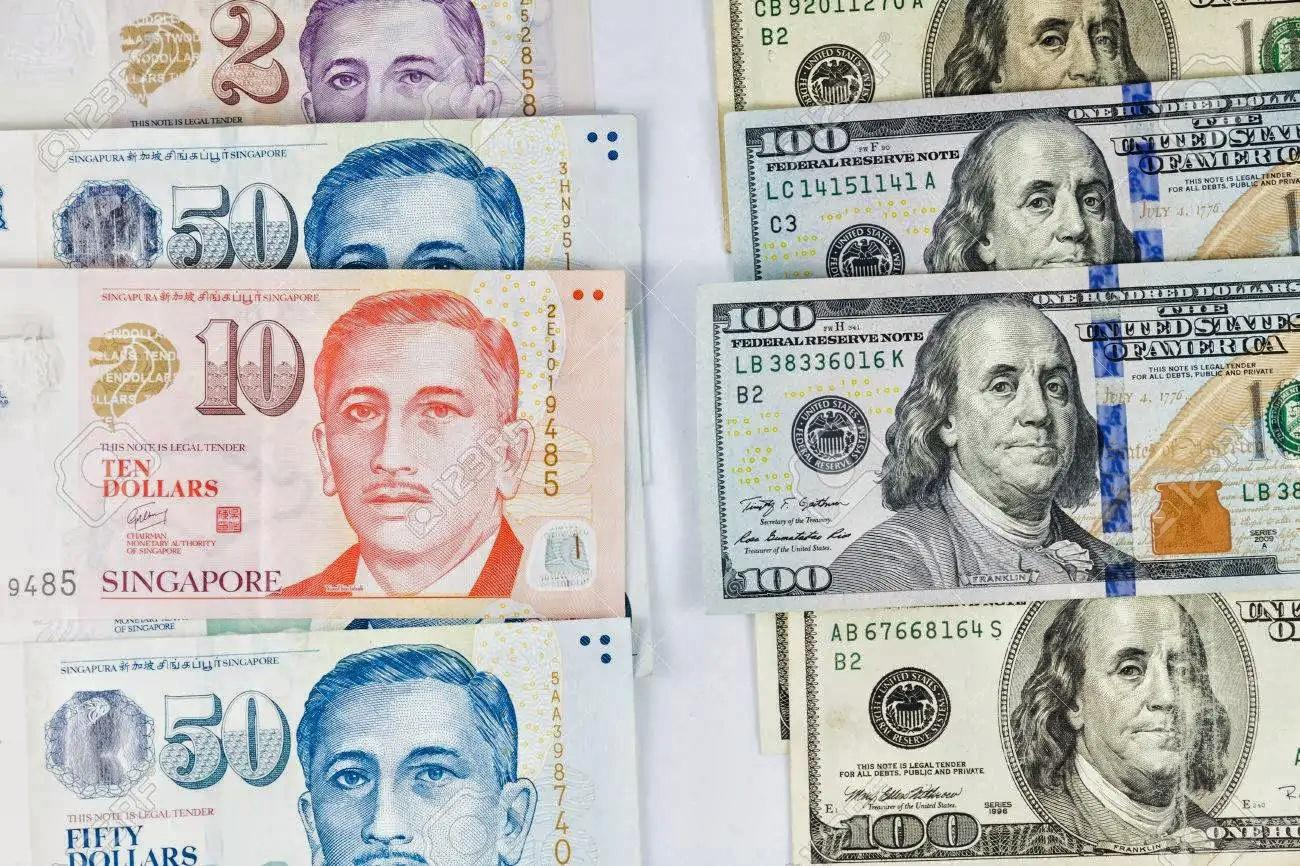10SingaporeDollar: (0, 271, 625, 615)
